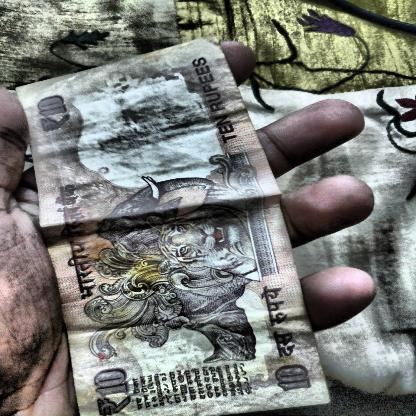Rs10: (83, 362, 140, 416), (26, 89, 78, 135), (266, 359, 317, 396)
